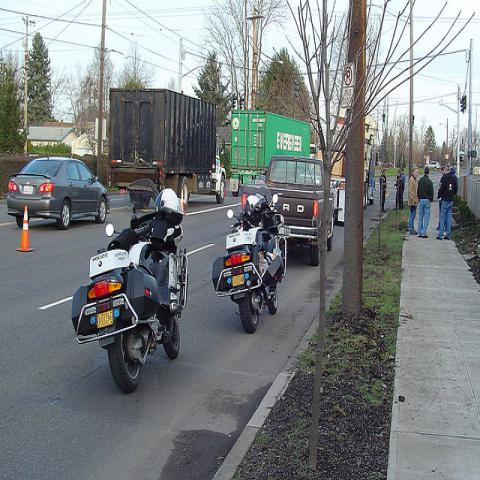car: (4, 154, 112, 229), (425, 160, 441, 170)
motorcycle: (69, 174, 190, 394), (210, 192, 293, 334)
truck: (109, 86, 224, 209), (238, 155, 336, 270), (229, 109, 311, 196), (328, 139, 376, 223)
